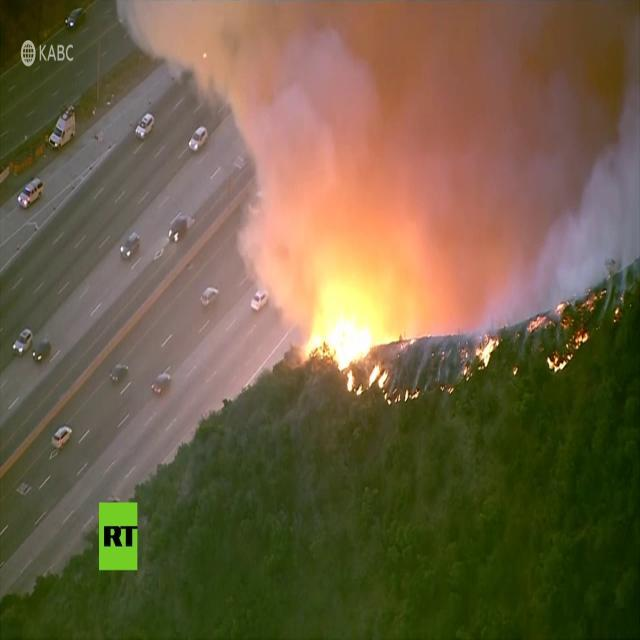Fire: (306, 320, 376, 370), (345, 366, 420, 406), (546, 328, 590, 372), (473, 334, 498, 374), (527, 311, 545, 332)
